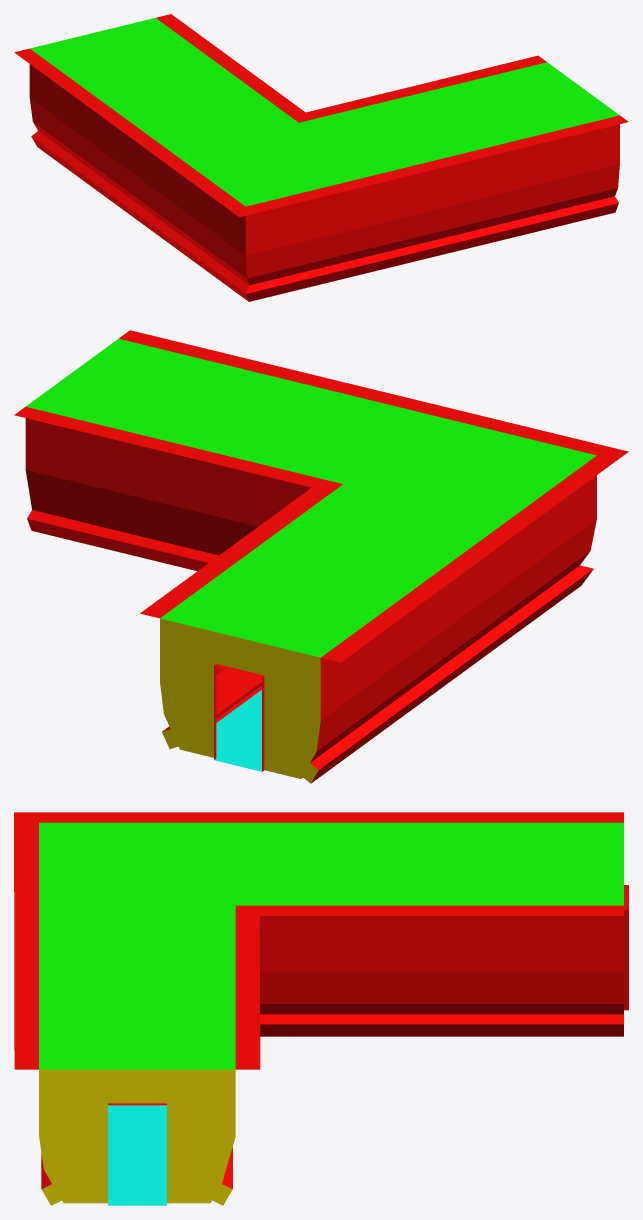
File: Corner.FBX
3 views of the same model, one above another, from view 1: azimuth 30°, elevation 25°; view 2: azimuth 150°, elevation 25°; view 3: azimuth 270°, elevation 25° (orthographic). The views are drawn at different scales.
Parts seen in each view (by area): view 1: Box002; view 2: Box002; view 3: Box002.
Part boxes in pixels (x1=…): Box002: x1=14, y1=14, x2=628, y2=301; Box002: x1=14, y1=330, x2=628, y2=783; Box002: x1=14, y1=812, x2=628, y2=1205.
Bounding box in the file's own units: 1250 × 1251 × 305.
